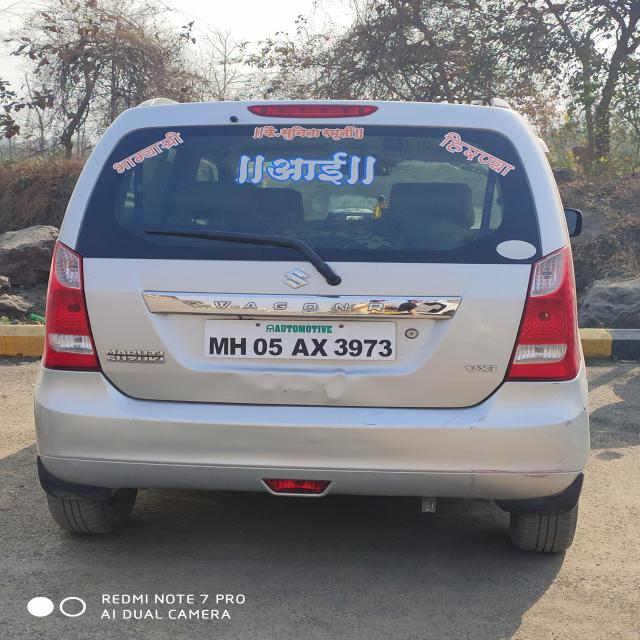Number-Plate: (200, 323, 402, 364)
